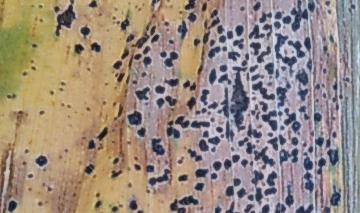tarspot: (230, 66, 249, 131), (55, 1, 76, 36), (289, 1, 309, 32), (253, 148, 276, 169), (251, 82, 276, 101), (217, 87, 230, 118), (274, 32, 289, 58), (149, 169, 171, 186), (288, 39, 306, 58), (132, 32, 150, 49), (150, 137, 165, 156), (262, 110, 277, 129), (276, 85, 288, 108), (282, 56, 297, 74), (175, 20, 188, 40), (125, 111, 142, 126), (248, 24, 265, 39), (174, 114, 190, 129), (256, 46, 271, 62), (225, 119, 235, 143), (283, 108, 296, 126), (329, 188, 341, 207), (164, 51, 179, 66), (247, 124, 263, 138), (134, 87, 151, 100), (178, 195, 200, 205), (327, 148, 339, 166), (190, 119, 211, 129), (318, 175, 325, 205), (296, 70, 309, 86), (252, 169, 264, 186), (285, 185, 294, 207), (34, 154, 48, 167), (249, 40, 261, 55), (278, 149, 290, 164), (118, 126, 124, 156), (194, 167, 210, 178), (295, 204, 314, 213), (266, 170, 276, 187), (185, 96, 197, 110), (80, 24, 91, 39), (164, 76, 179, 87), (303, 156, 314, 171), (98, 126, 108, 142), (208, 46, 220, 59), (165, 94, 178, 106), (268, 137, 279, 151), (200, 88, 209, 105), (317, 158, 326, 175), (120, 17, 130, 32), (182, 1, 198, 10), (264, 23, 273, 39), (224, 201, 236, 213), (74, 43, 85, 56), (167, 127, 180, 138), (198, 139, 209, 152), (259, 11, 272, 22), (219, 74, 232, 85), (120, 46, 130, 60), (84, 162, 94, 176), (291, 146, 299, 163), (303, 36, 312, 51), (297, 88, 308, 100), (304, 180, 315, 192), (224, 185, 235, 197), (227, 51, 240, 61), (264, 186, 277, 196), (193, 181, 206, 191), (209, 68, 217, 84), (8, 199, 17, 213), (186, 12, 197, 23), (208, 7, 219, 18), (233, 38, 244, 49), (185, 148, 197, 158), (246, 142, 256, 154), (275, 203, 287, 213), (313, 191, 319, 211), (143, 55, 152, 68), (265, 61, 274, 74), (255, 187, 263, 201), (90, 42, 101, 52), (312, 111, 322, 122), (258, 101, 268, 112), (236, 188, 247, 198), (87, 138, 96, 150), (209, 19, 221, 28), (209, 137, 221, 146), (235, 25, 244, 37), (292, 122, 301, 134), (224, 158, 232, 171), (125, 33, 135, 43), (261, 203, 271, 213), (244, 203, 254, 213), (129, 199, 138, 210), (111, 169, 122, 178), (117, 104, 124, 118), (206, 101, 218, 109), (177, 174, 189, 182), (202, 32, 209, 45), (306, 59, 313, 72), (171, 198, 178, 211), (112, 60, 122, 69), (156, 98, 165, 108), (137, 128, 146, 138), (214, 124, 224, 133), (282, 15, 291, 25), (315, 136, 324, 146), (303, 171, 313, 180), (232, 154, 241, 164), (213, 161, 222, 171), (88, 1, 99, 9), (308, 1, 316, 12), (196, 63, 204, 74), (252, 73, 264, 80), (142, 46, 151, 55), (233, 177, 242, 186), (155, 85, 165, 93), (94, 199, 102, 209), (201, 1, 208, 12), (217, 24, 224, 35), (291, 135, 298, 146), (176, 206, 187, 213), (7, 92, 16, 100), (151, 34, 159, 43), (133, 163, 142, 171), (218, 35, 226, 44), (253, 2, 261, 11), (298, 105, 307, 113), (118, 72, 125, 82), (132, 53, 142, 60), (194, 37, 201, 47), (279, 134, 286, 144), (127, 59, 133, 70), (325, 138, 331, 149), (182, 80, 190, 88), (219, 64, 227, 72), (237, 139, 245, 147), (247, 193, 255, 201), (150, 1, 157, 10), (241, 159, 248, 168), (200, 46, 204, 61), (30, 64, 37, 72), (140, 71, 148, 78), (159, 51, 167, 58), (112, 156, 119, 164), (208, 39, 216, 46), (189, 82, 196, 90), (202, 130, 209, 138), (275, 11, 282, 19), (274, 21, 281, 29), (250, 65, 258, 72), (322, 206, 330, 213), (211, 172, 218, 180), (203, 20, 208, 31), (275, 68, 280, 79), (125, 75, 131, 84), (150, 25, 156, 34), (227, 30, 233, 39), (255, 111, 261, 120), (213, 207, 222, 213), (123, 88, 129, 97), (38, 109, 45, 116), (167, 119, 174, 126), (350, 3, 357, 10), (303, 113, 310, 120), (36, 200, 43, 207), (54, 6, 60, 14), (146, 166, 154, 172), (195, 155, 203, 161), (332, 82, 338, 90), (307, 145, 313, 153), (17, 109, 24, 115), (60, 80, 66, 87), (23, 148, 30, 154), (163, 20, 170, 26), (168, 39, 175, 45), (244, 53, 250, 60), (241, 60, 248, 66), (329, 36, 335, 43), (267, 81, 273, 88), (250, 109, 256, 116), (243, 136, 249, 143), (112, 206, 119, 212), (27, 173, 34, 179), (335, 103, 340, 111), (322, 92, 327, 100), (38, 3, 44, 9), (86, 67, 92, 73), (86, 106, 92, 112), (102, 100, 108, 106), (104, 81, 110, 87), (132, 79, 138, 85), (221, 46, 227, 52), (201, 107, 207, 113), (195, 110, 201, 116), (246, 73, 250, 82), (281, 65, 287, 71), (331, 97, 337, 103), (286, 83, 292, 89), (98, 145, 104, 151), (40, 181, 46, 187), (110, 128, 116, 134), (31, 43, 38, 48), (210, 147, 217, 152), (323, 45, 328, 52), (322, 68, 327, 75), (315, 83, 320, 90), (251, 96, 258, 101), (254, 103, 259, 110), (310, 130, 315, 137), (321, 35, 326, 42), (319, 129, 324, 136), (164, 158, 168, 166), (22, 71, 28, 76), (66, 103, 71, 109), (114, 72, 119, 78), (112, 101, 117, 107), (112, 116, 118, 121), (63, 147, 68, 153), (113, 85, 118, 91), (113, 7, 119, 12), (146, 25, 151, 31), (151, 13, 156, 19), (178, 9, 183, 15), (110, 139, 116, 144), (134, 155, 139, 161), (177, 159, 183, 164), (220, 133, 225, 139), (325, 1, 331, 6), (338, 94, 344, 99), (278, 110, 283, 116), (302, 142, 308, 147), (267, 132, 273, 137), (230, 147, 235, 153), (146, 188, 151, 194), (128, 181, 133, 187), (105, 27, 111, 32), (34, 15, 38, 22), (333, 131, 337, 138), (250, 160, 254, 167), (137, 209, 144, 213), (157, 157, 161, 164), (39, 18, 44, 23), (59, 87, 64, 92), (98, 12, 103, 17), (22, 161, 27, 166), (58, 155, 63, 160), (127, 140, 132, 145), (211, 118, 216, 123), (240, 6, 245, 11), (328, 9, 333, 14), (280, 125, 285, 130), (95, 192, 100, 197), (48, 187, 53, 192), (72, 192, 77, 197), (29, 59, 35, 63), (346, 77, 350, 83), (269, 74, 273, 80), (250, 209, 256, 213), (119, 202, 123, 208), (27, 187, 33, 191), (200, 205, 204, 211), (50, 91, 54, 96), (61, 103, 65, 108), (112, 15, 116, 20), (117, 20, 121, 25), (138, 7, 142, 12), (170, 108, 175, 112), (169, 5, 174, 9), (134, 5, 139, 9), (208, 111, 212, 116), (321, 83, 325, 88), (256, 139, 260, 144), (304, 151, 308, 156), (43, 167, 47, 172), (145, 100, 149, 105), (127, 1, 132, 5), (31, 4, 35, 8), (166, 28, 170, 32), (332, 116, 336, 120), (316, 98, 319, 103), (252, 92, 256, 95), (165, 1, 170, 3)
